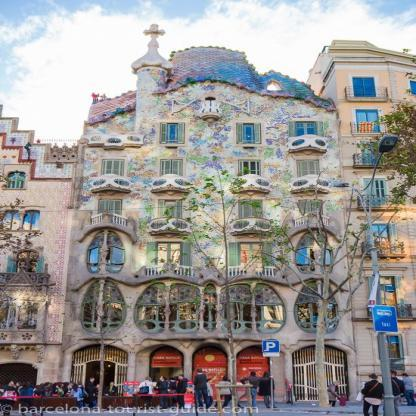Balcony: (82, 130, 144, 146), (147, 216, 191, 233), (92, 173, 132, 191), (151, 173, 191, 191), (230, 173, 271, 190), (290, 174, 329, 191), (230, 216, 271, 232), (227, 264, 275, 277), (289, 134, 328, 150), (145, 264, 194, 276), (91, 211, 128, 226), (293, 212, 329, 227)
Deco: (71, 264, 349, 291), (78, 210, 139, 245), (284, 211, 342, 245)
Door: (70, 344, 127, 406), (292, 344, 349, 402), (135, 344, 184, 405), (236, 344, 285, 403), (192, 343, 228, 404), (131, 24, 174, 75)
Facade: (62, 25, 354, 407)
Floor Slab: (62, 333, 353, 340), (67, 273, 349, 280)
Glass Wall: (294, 281, 339, 334), (82, 281, 126, 333), (88, 230, 126, 274), (134, 283, 166, 333), (220, 283, 252, 333), (296, 232, 333, 275), (255, 283, 286, 334), (169, 284, 200, 332)
Roof: (152, 45, 337, 111), (86, 90, 136, 125)
Window: (157, 243, 180, 273), (203, 283, 217, 332), (158, 200, 182, 228), (241, 243, 262, 273), (240, 200, 262, 228), (98, 199, 122, 224), (297, 160, 320, 185), (239, 160, 261, 185), (160, 160, 182, 185), (102, 160, 124, 185), (300, 200, 322, 225), (160, 123, 184, 144), (237, 123, 261, 144), (294, 122, 317, 142), (267, 81, 282, 90)
